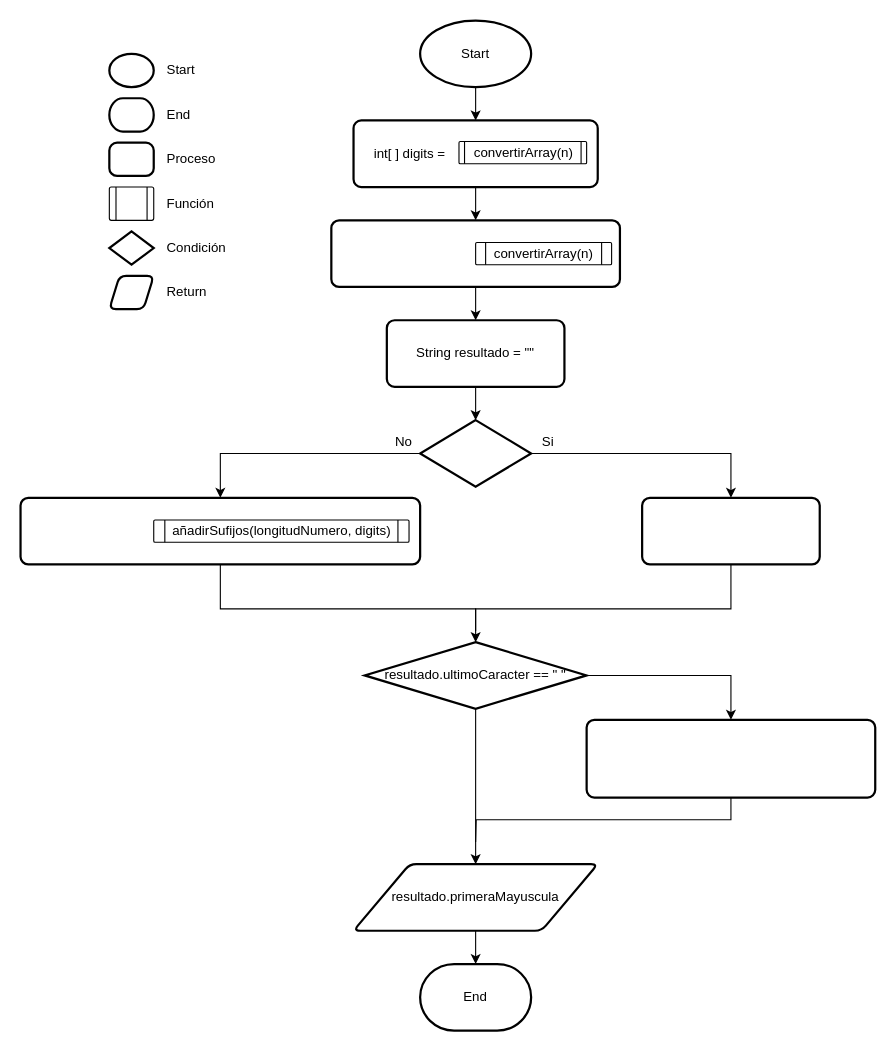
The diagram is 895 pixels wide and 1050 high, and some of its shapes have lost their labels. Each missing label, with the box of its shape:
int longitudNumero =: (330, 219, 620, 287)
n == 0: (418, 418, 532, 487)
resultado = resultado.quitarUltimoCaracter: (585, 718, 876, 798)
String resultado =: (19, 496, 421, 565)
String resultado = "zero": (640, 496, 820, 565)
